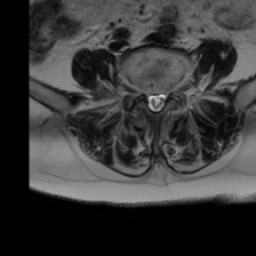CCS_normal: (152, 84, 159, 120)
LFS_stenosis: (167, 78, 176, 103)
LLS_normal: (159, 84, 167, 112)
RFS_severe_stenosis: (136, 79, 144, 102)
RLS_normal: (144, 84, 152, 112)
